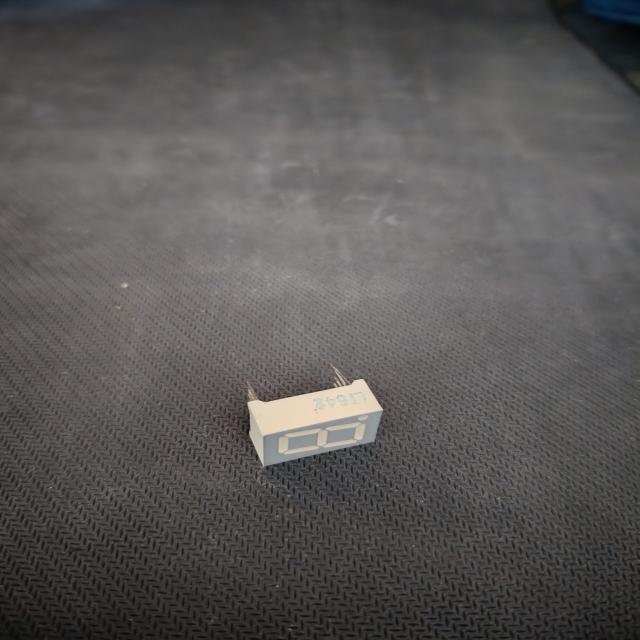sevensegment: (229, 361, 394, 476)
